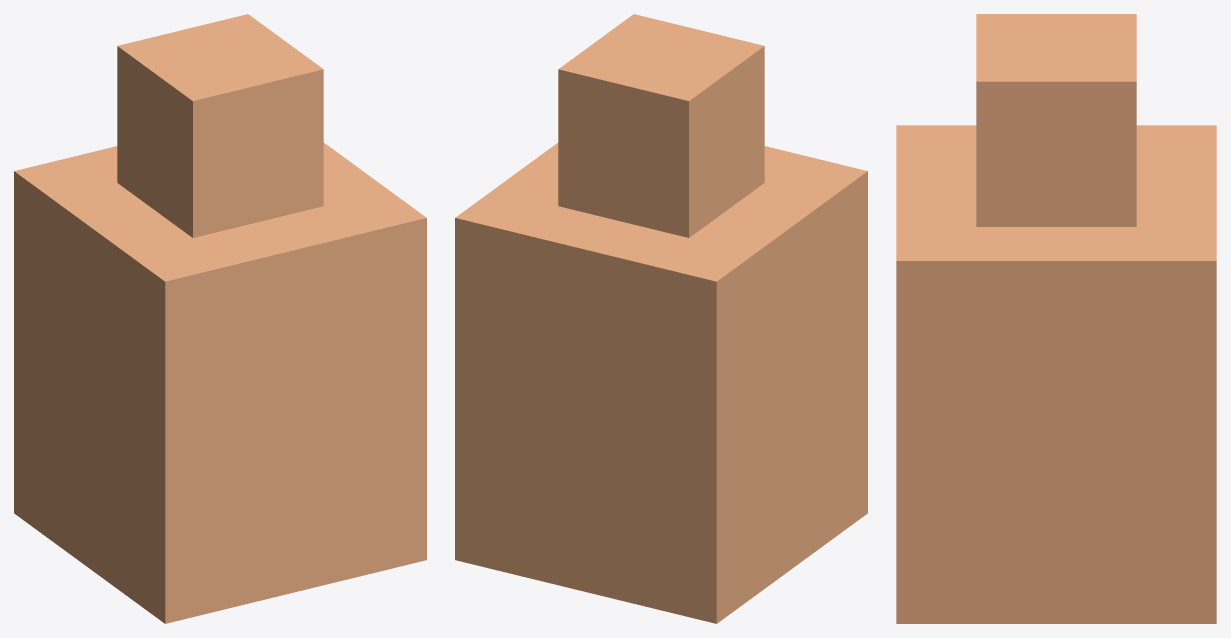
File: Hip042.fbx
3 renders of one model, left to right at view 1: azimuth 30°, elevation 25°; view 2: azimuth 150°, elevation 25°; view 3: azimuth 270°, elevation 25°, orthographic. The views are drawn at different scales.
Parts seen in each view (by area): view 1: Hip042; view 2: Hip042; view 3: Hip042.
Part boxes in pixels (bbox=[...]): Hip042: bbox=[14, 14, 426, 623]; Hip042: bbox=[455, 14, 867, 623]; Hip042: bbox=[896, 14, 1216, 623].
Bounding box in the file's own units: 4 × 7 × 4.
